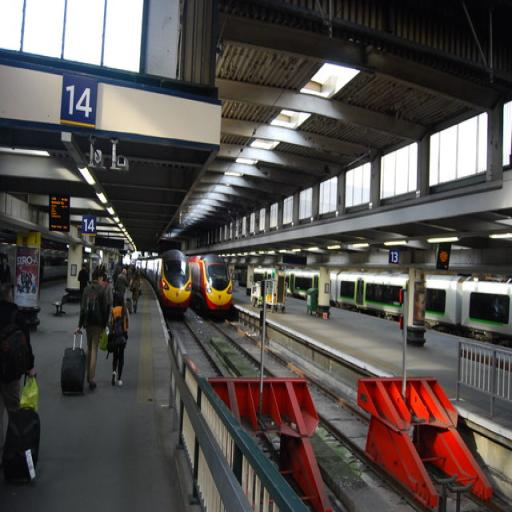platform_edge: (136, 293, 171, 406)
